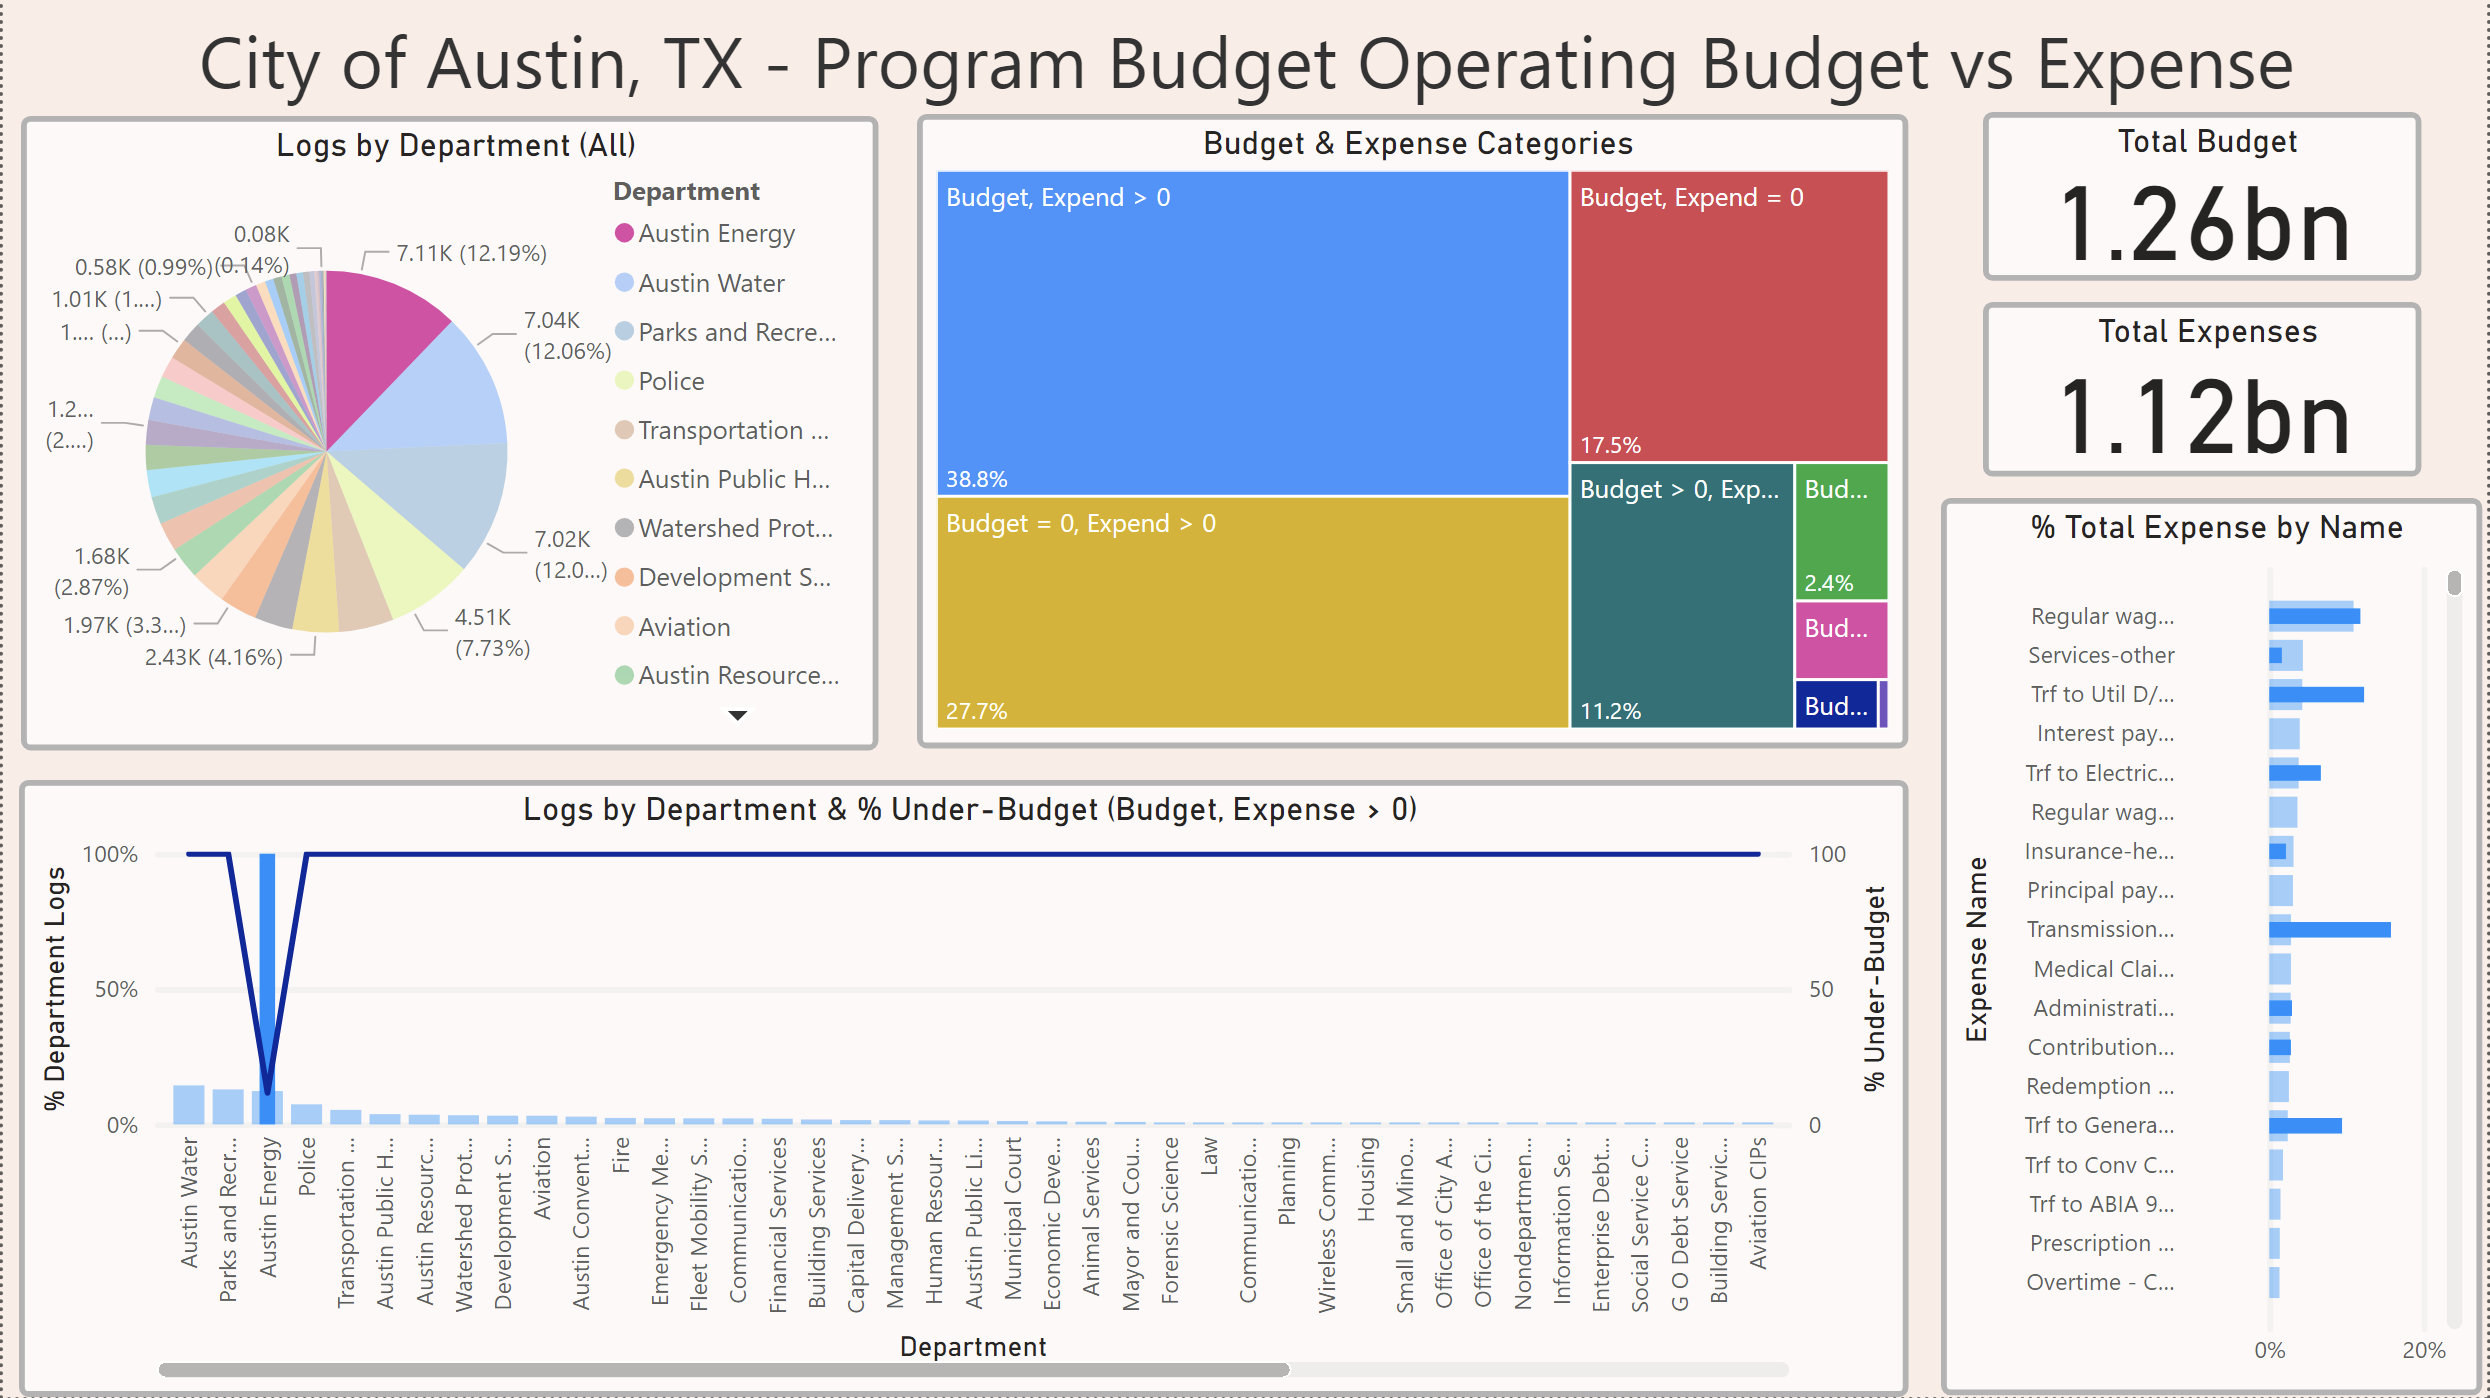

This screenshot's page, from the dashboard's own definition file:
{"tool":"powerbi","page":{"name":"Mini-Dashboard","canvas":[1280,720],"ordinal":0},"visuals":[{"type":"pieChart","title":"Logs by Department (All)","fields":{"Category":["AustinTXData budget.DEPARTMENT_NAME"],"Y":["CountNonNull(AustinTXData budget.DEPARTMENT_NAME)"]},"box":[9,60,442,327],"z":0},{"type":"treemap","title":"Budget & Expense Categories","fields":{"Group":["AustinTXData budget.BudgetExpendCateg"],"Values":["CountNonNull(AustinTXData budget.BudgetExpendCateg)"]},"box":[471,59,511,327],"z":1000},{"type":"barChart","title":"% Total Expense by Name","fields":{"Category":["AustinTXData budget.EXPENSE_NAME"],"Y":["Divide(Sum(AustinTXData budget.EXPENDITURES), ScopedEval(Sum(AustinTXData budget.EXPENDITURES), []))"]},"box":[998.8,256.2,278.8,462.5],"z":2000},{"type":"lineStackedColumnComboChart","title":"Logs by Department & % Under-Budget  (Budget, Expense > 0)","fields":{"Category":["AustinTXData budget.DEPARTMENT_NAME"],"Y2":["AustinTXData budget.PercUnderBudget"],"Y":["Divide(CountNonNull(AustinTXData budget.DEPARTMENT_NAME), ScopedEval(CountNonNull(AustinTXData budget.DEPARTMENT_NAME), "]},"box":[8,402,974,318],"z":3000},{"type":"card","title":"Total Budget","fields":{"Values":["AustinTXData budget.TotalBudget"]},"box":[1021,58,226,87],"z":4000},{"type":"card","title":"Total Expenses","fields":{"Values":["Sum(AustinTXData budget.EXPENDITURES)"]},"box":[1021,156,226,90],"z":5000},{"type":"textbox","box":[82.5,0,1117.5,63],"z":5001}]}

Visuals, with their boxes in screenshot pixels (x1, y1, x2, y2), scaled from the page's 1280x720 canvas onto the 2490x1398 screenshot:
"Logs by Department (All)" pieChart: box=[18, 116, 877, 751]
"Budget & Expense Categories" treemap: box=[916, 115, 1910, 749]
"% Total Expense by Name" barChart: box=[1943, 497, 2485, 1395]
"Logs by Department & % Under-Budget  (Budget, Expense > 0)" lineStackedColumnComboChart: box=[16, 781, 1910, 1397]
"Total Budget" card: box=[1986, 113, 2426, 282]
"Total Expenses" card: box=[1986, 303, 2426, 478]
textbox: box=[160, 0, 2334, 122]
